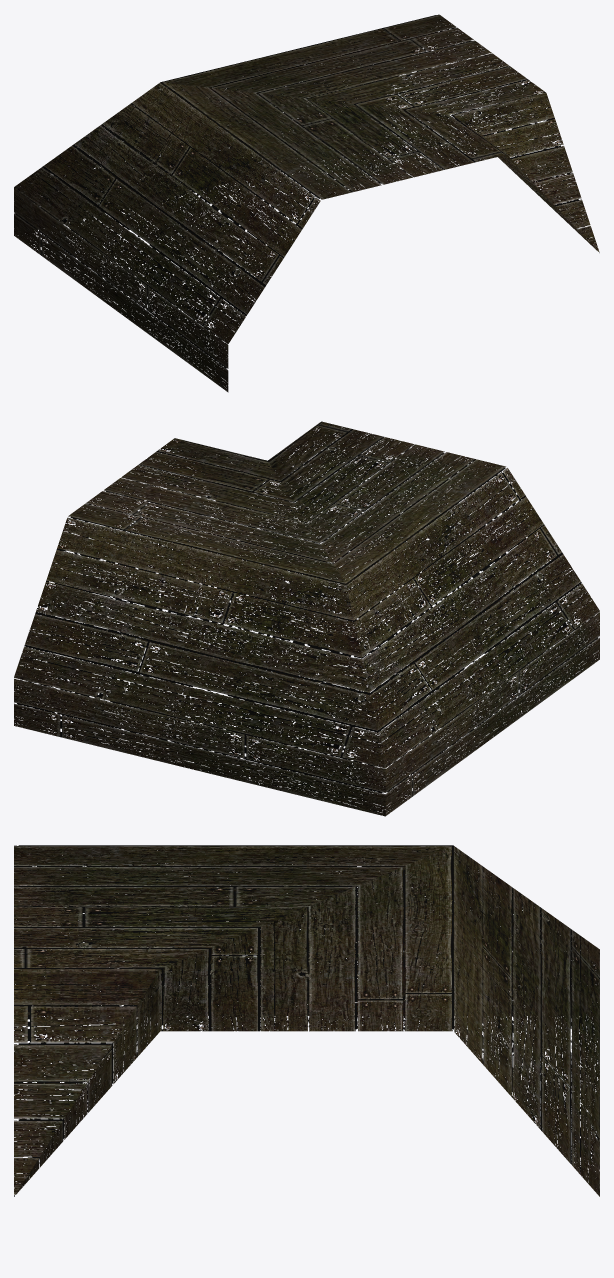
The model's file is arched_wooden_roof_turn.dae.
The picture shows the model from 3 angles, top to bottom: view 1: azimuth 30°, elevation 25°; view 2: azimuth 150°, elevation 25°; view 3: azimuth 270°, elevation 25°; orthographic projection. The views are drawn at different scales.
Visible parts, largest first — view 1: polySurface4; view 2: polySurface4; view 3: polySurface4.
Boxes of the visible parts, x1,y1,x2,y2 form: polySurface4: (14, 14, 599, 392); polySurface4: (14, 421, 599, 816); polySurface4: (14, 845, 599, 1196).
Size of the model in its own units: 4 by 1.75 by 4.
